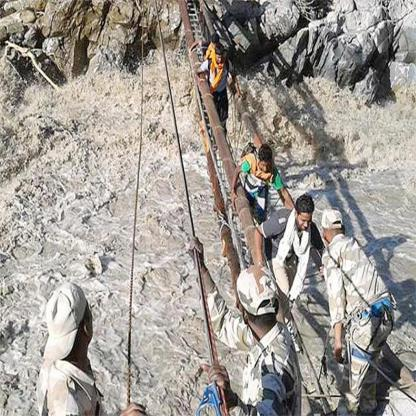face: (298, 214, 312, 232), (260, 163, 271, 174), (216, 56, 224, 64), (212, 43, 217, 50)
